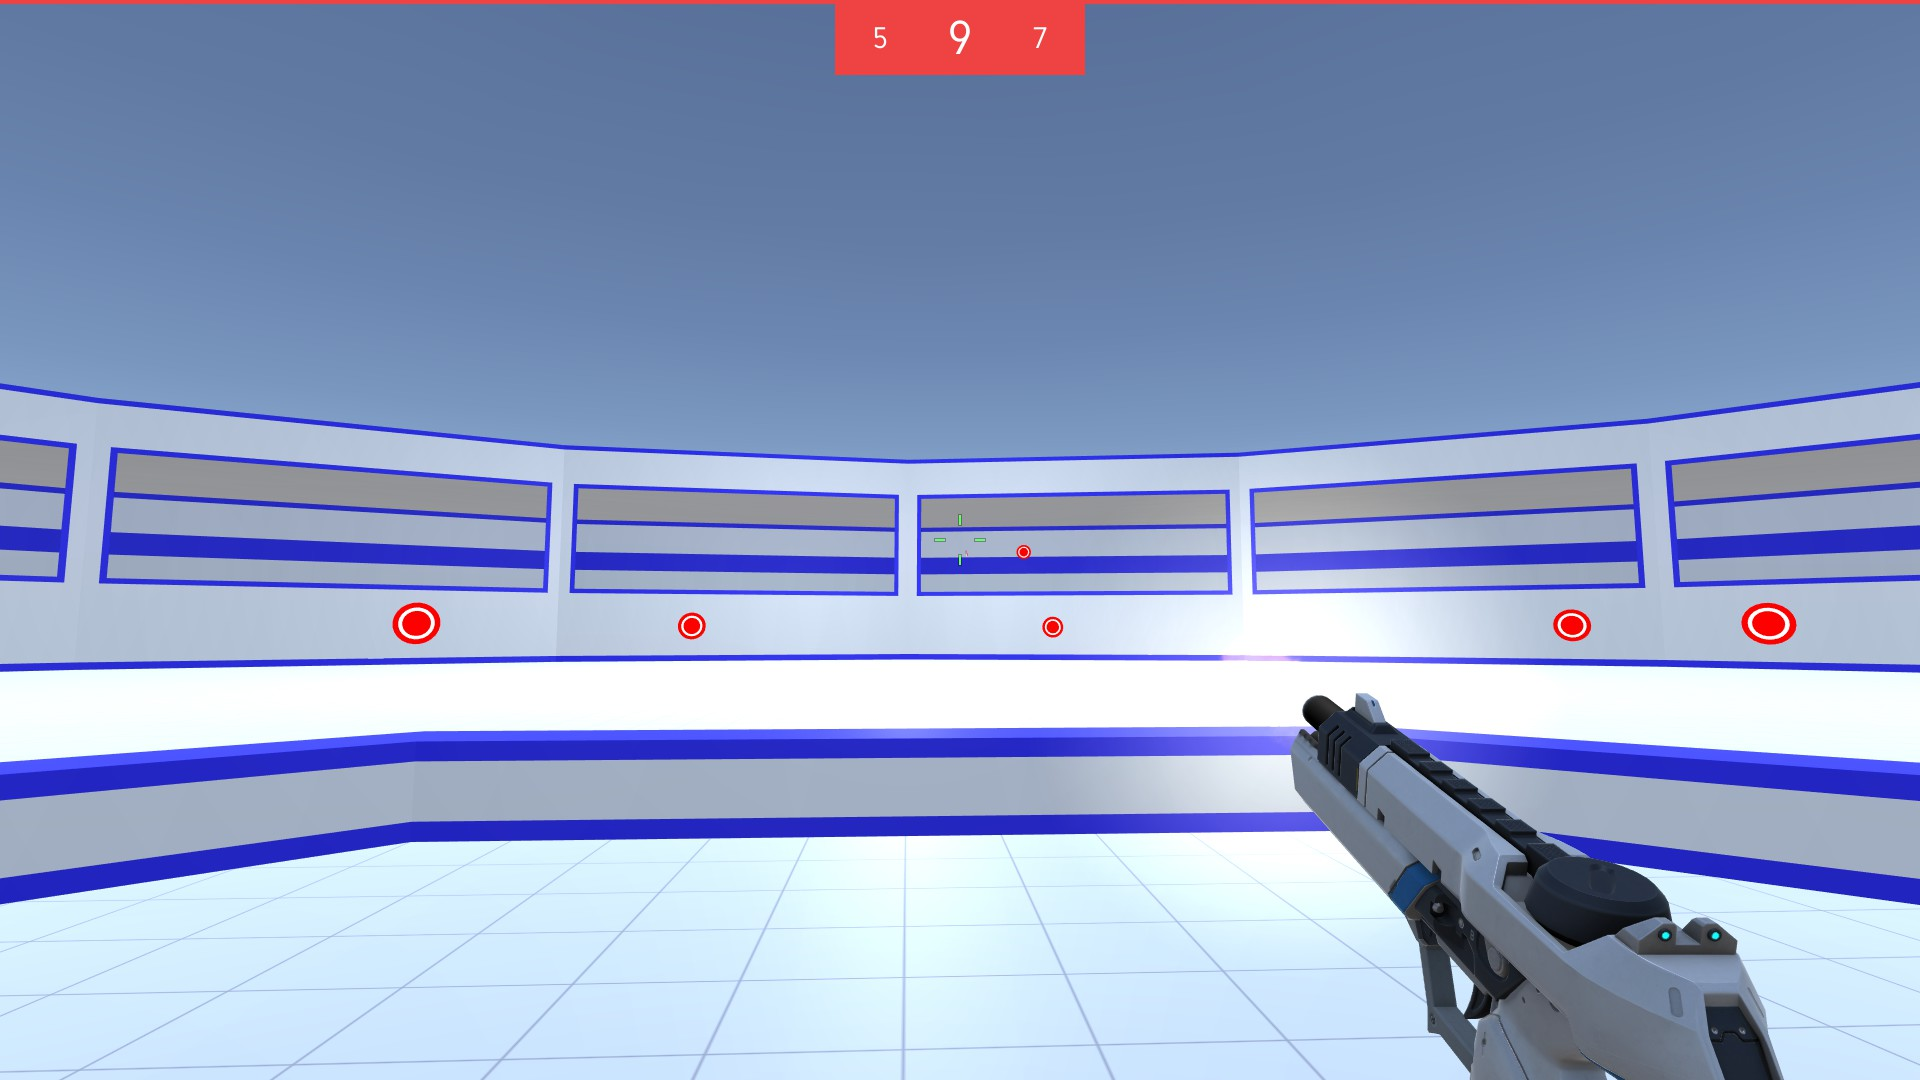target: (389, 601, 448, 647), (1739, 603, 1800, 647), (1552, 609, 1596, 642), (676, 611, 708, 640), (1039, 615, 1067, 638), (1014, 542, 1033, 556)
